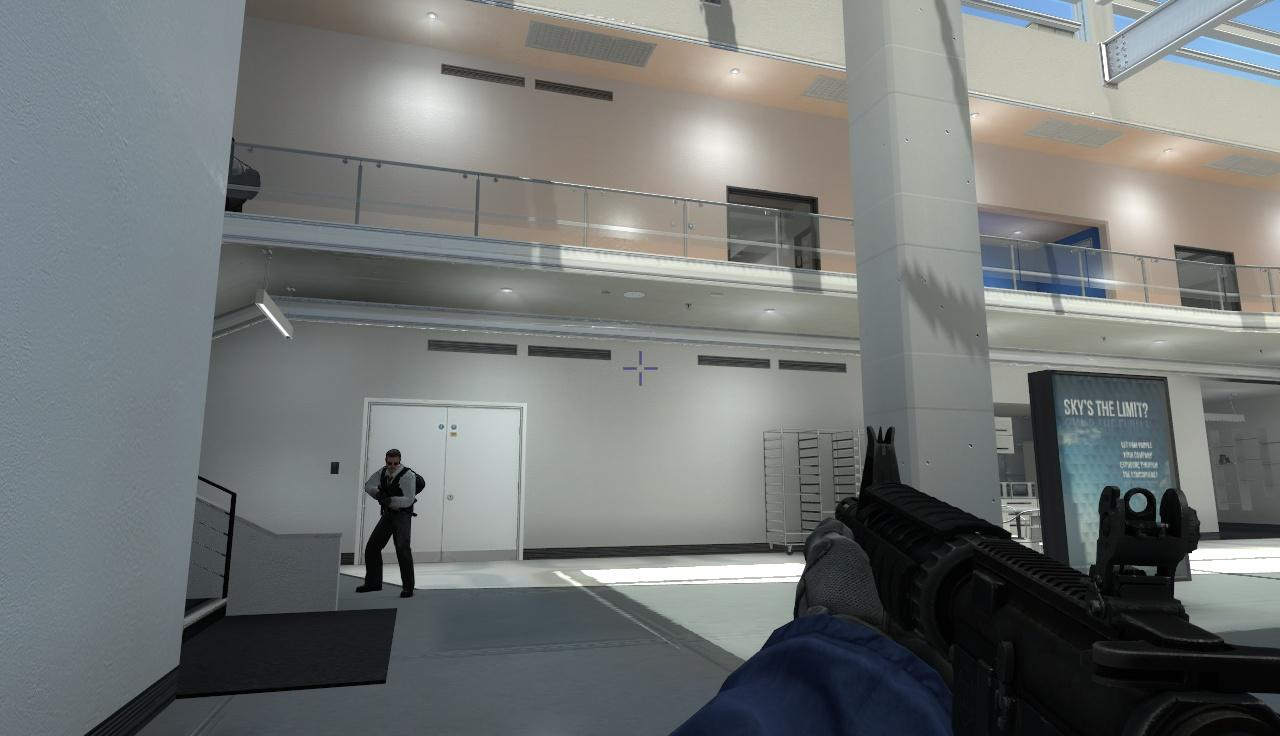rifle: (812, 433, 1280, 736)
tt: (363, 449, 416, 601), (230, 155, 248, 213)
tthead: (385, 448, 402, 473)
